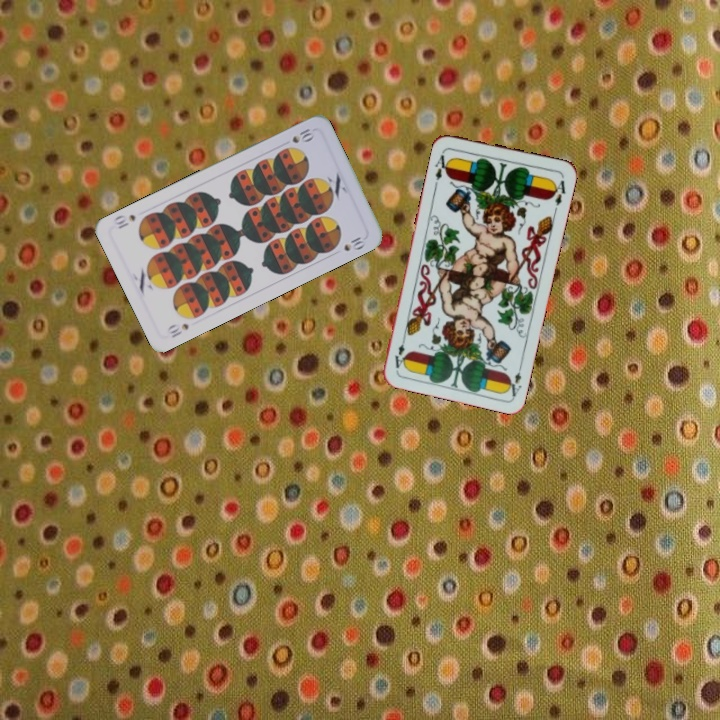EA: (431, 147, 453, 187), (503, 359, 525, 399)
S10: (163, 319, 192, 341), (288, 124, 315, 146)
